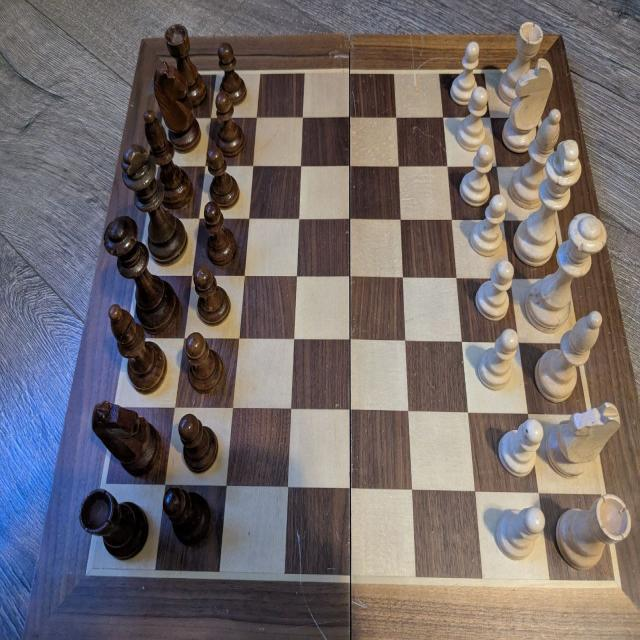black_bishop: (106, 306, 169, 392), (144, 111, 194, 210)
black_king: (119, 143, 188, 266)
black_knight: (90, 402, 161, 476), (153, 64, 200, 152)
black_pawn: (162, 485, 212, 546), (184, 332, 225, 395), (192, 264, 231, 329), (177, 414, 218, 473), (202, 200, 236, 267), (206, 147, 239, 210), (213, 92, 244, 159), (216, 42, 246, 107)
black_queen: (102, 213, 181, 332)
black_rook: (78, 488, 149, 560), (162, 23, 205, 108)
white_bishop: (534, 313, 605, 402), (506, 113, 564, 209)
white_king: (515, 136, 583, 268)
white_knight: (544, 406, 622, 477), (502, 57, 554, 152)
white_pawn: (496, 502, 546, 560), (498, 418, 544, 477), (479, 329, 519, 392), (475, 260, 513, 321), (469, 193, 505, 254), (457, 86, 489, 151), (449, 40, 480, 106), (461, 146, 494, 206)
white_queen: (522, 211, 607, 333)
white_rook: (554, 493, 633, 570), (497, 21, 543, 107)
